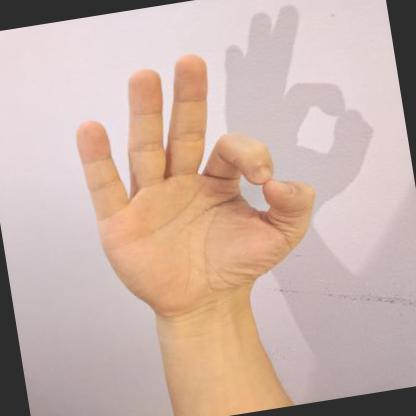F: (76, 54, 314, 319)
